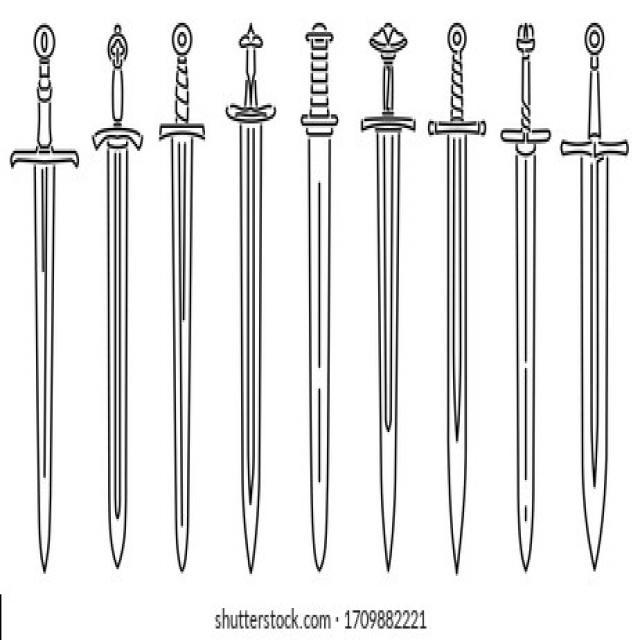sword: (11, 18, 82, 574), (565, 16, 624, 585), (226, 23, 279, 580), (433, 17, 485, 584), (91, 21, 143, 581), (363, 16, 414, 574), (159, 17, 209, 581), (299, 22, 348, 575), (507, 16, 547, 585)
